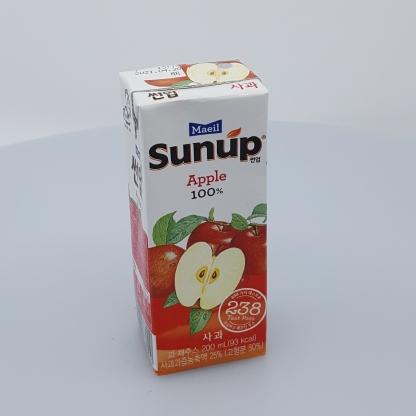-----------200ML: (118, 58, 269, 376)
